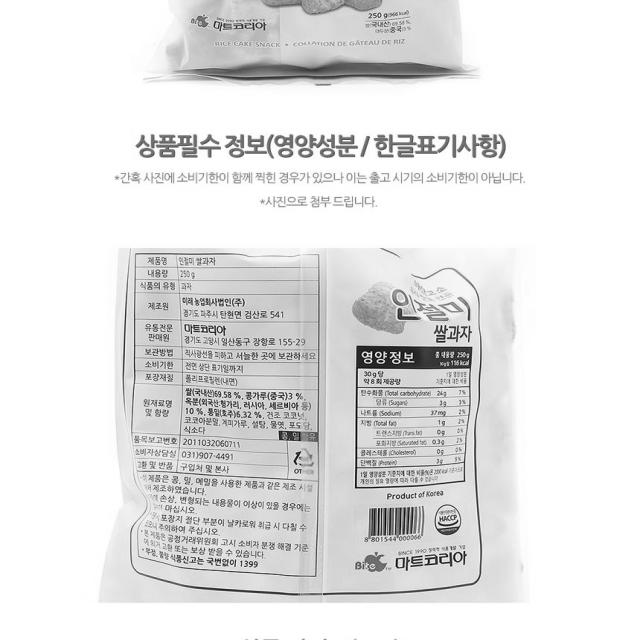Nutrition Label: (349, 340, 472, 492)
